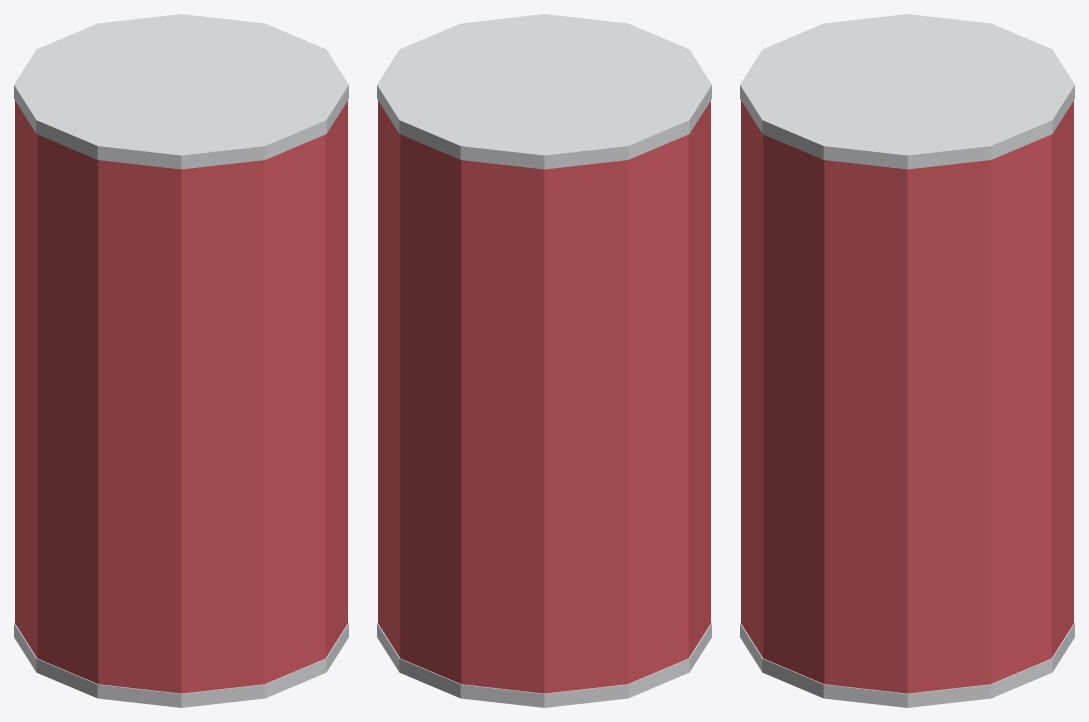
The model's file is cannedDrink.glb.
3 renders of one model, left to right at view 1: azimuth 30°, elevation 25°; view 2: azimuth 150°, elevation 25°; view 3: azimuth 270°, elevation 25°, orthographic.
Visible parts, largest first — view 1: cannedDrink; view 2: cannedDrink; view 3: cannedDrink.
Boxes of the visible parts, x1,y1,x2,y2 form: cannedDrink: [14, 14, 348, 707]; cannedDrink: [377, 14, 711, 707]; cannedDrink: [740, 14, 1074, 707].
Size of the model in its own units: 0.0654 by 0.119 by 0.0654.
